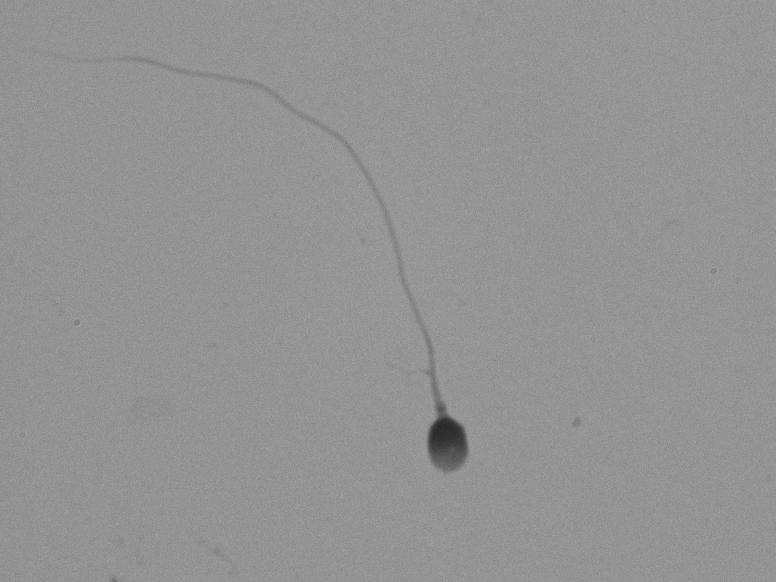Normal: (94, 65, 567, 481)
